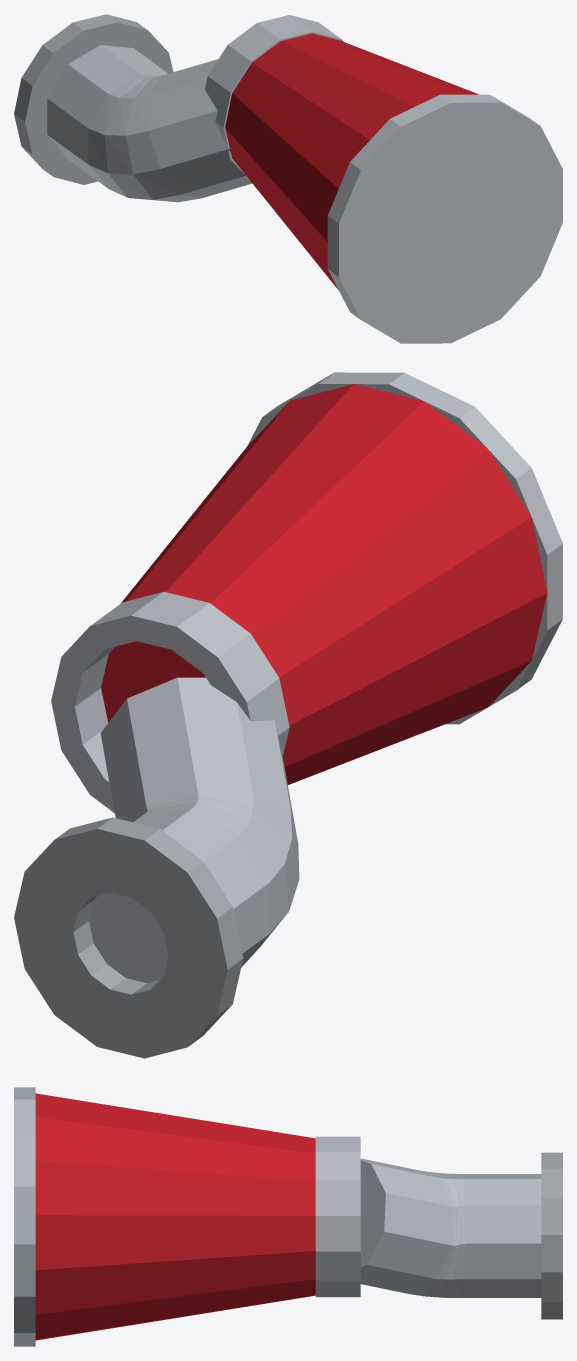
The model's file is apex_v8.glb.
3 renders of one model, top to bottom at view 1: azimuth 30°, elevation 25°; view 2: azimuth 150°, elevation 25°; view 3: azimuth 270°, elevation 25°, orthographic. The views are drawn at different scales.
Visible parts, largest first — view 1: model; view 2: model; view 3: model.
Part boxes in pixels (left/top/right/bottom): model: left=14, top=14, right=562, bottom=343; model: left=14, top=372, right=562, bottom=1058; model: left=14, top=1087, right=562, bottom=1346.
Size of the model in its own units: 0.1672 by 0.1528 by 0.304.
Materials: 2 (1 with a texture image).
